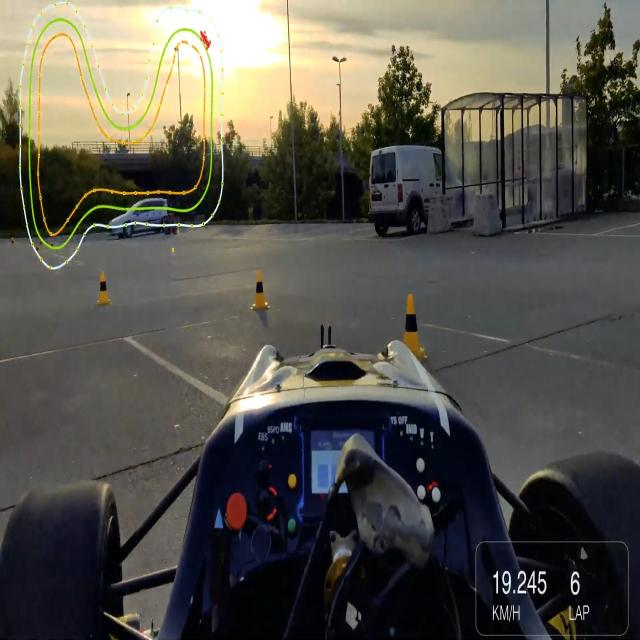yellow_cone: (396, 292, 426, 364), (250, 271, 270, 312), (96, 269, 113, 307)
